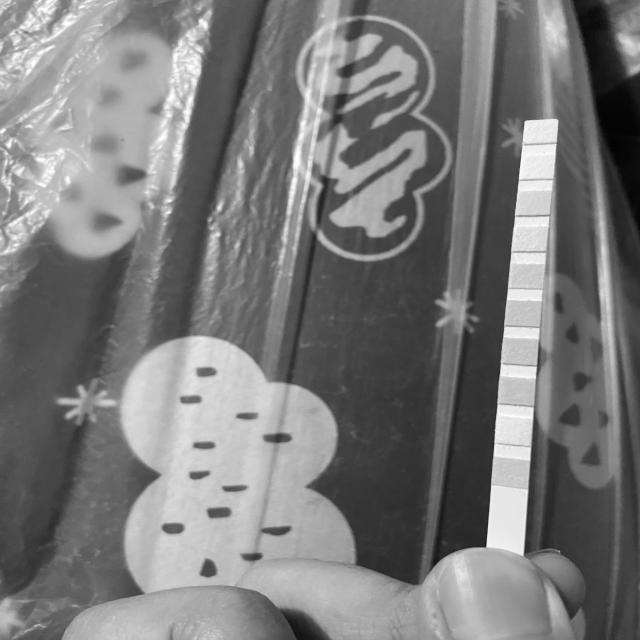Bilirubin: (496, 420, 532, 443)
Blood: (507, 301, 540, 325)
Glucose: (494, 461, 528, 484)
Ketone: (500, 379, 534, 403)
Leukocytes: (525, 122, 556, 142)
Nitrite: (521, 156, 553, 178)
Protein: (514, 228, 546, 250)
SpGravity: (503, 339, 537, 363)
Urobilinogen: (518, 192, 549, 215)
background: (0, 0, 640, 640)
pH: (511, 264, 542, 288)
strip: (486, 119, 558, 556)
